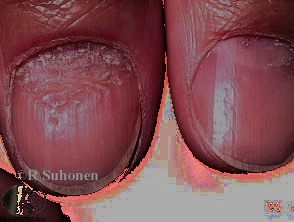Nail_psoriasis: (0, 0, 153, 149), (217, 0, 294, 92)
